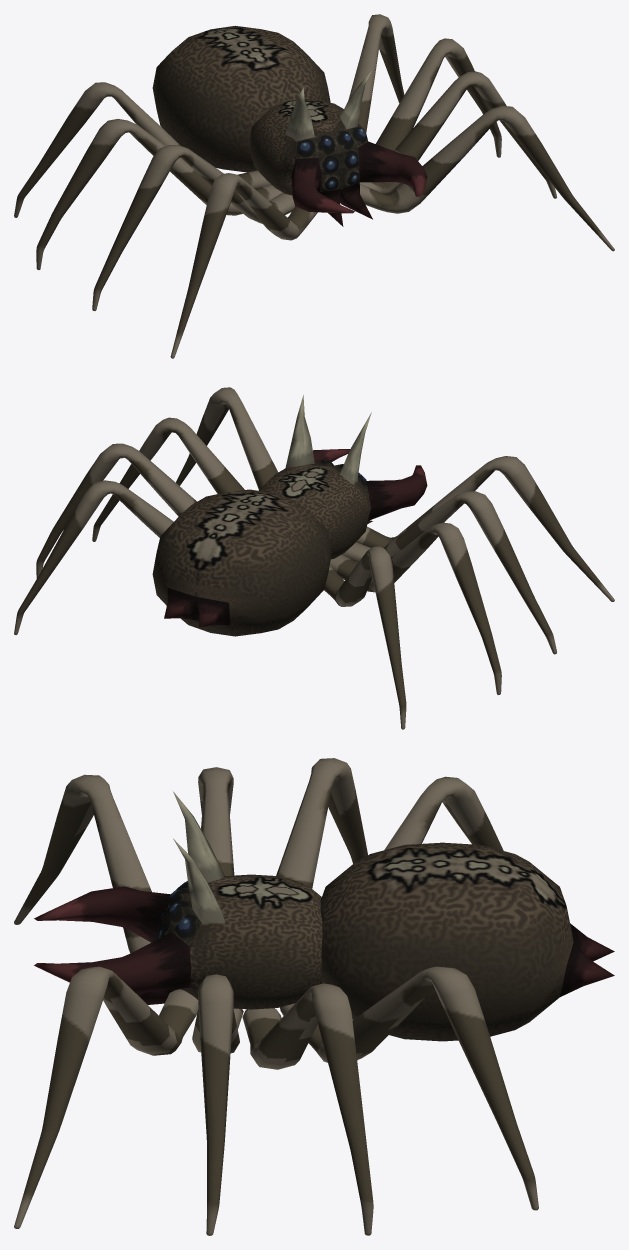
Rendered from prism.glb.
The picture shows the model from 3 angles, top to bottom: view 1: azimuth 30°, elevation 25°; view 2: azimuth 150°, elevation 25°; view 3: azimuth 270°, elevation 25°; orthographic projection. The views are drawn at different scales.
Visible parts, largest first — view 1: Icosphere.001, Icosphere; view 2: Icosphere, Icosphere.001; view 3: Icosphere, Icosphere.001.
Part boxes in pixels (<box>): Icosphere.001: <box>14,14,614,358</box>; Icosphere: <box>152,25,427,226</box>; Icosphere: <box>152,395,427,636</box>; Icosphere.001: <box>14,387,614,729</box>; Icosphere: <box>34,791,614,1041</box>; Icosphere.001: <box>14,758,538,1235</box>.
Bounding box in the file's own units: 5.23 × 2 × 4.15.
Materials: 2 (2 with a texture image).
